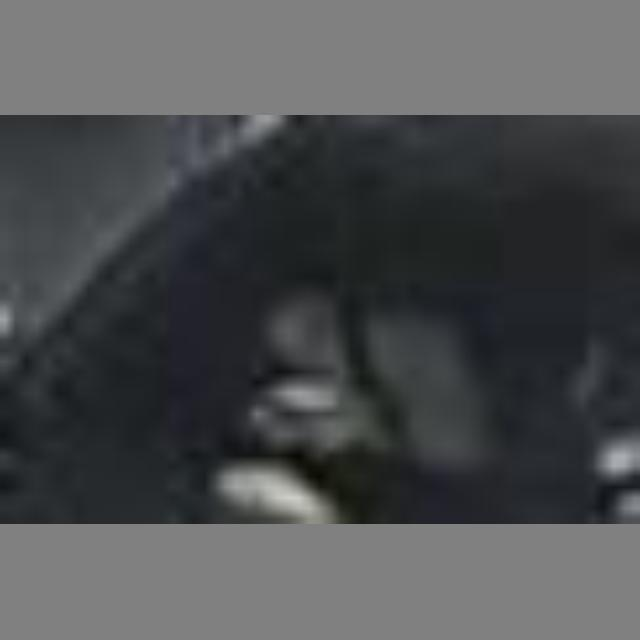pakai: (220, 262, 504, 451)
